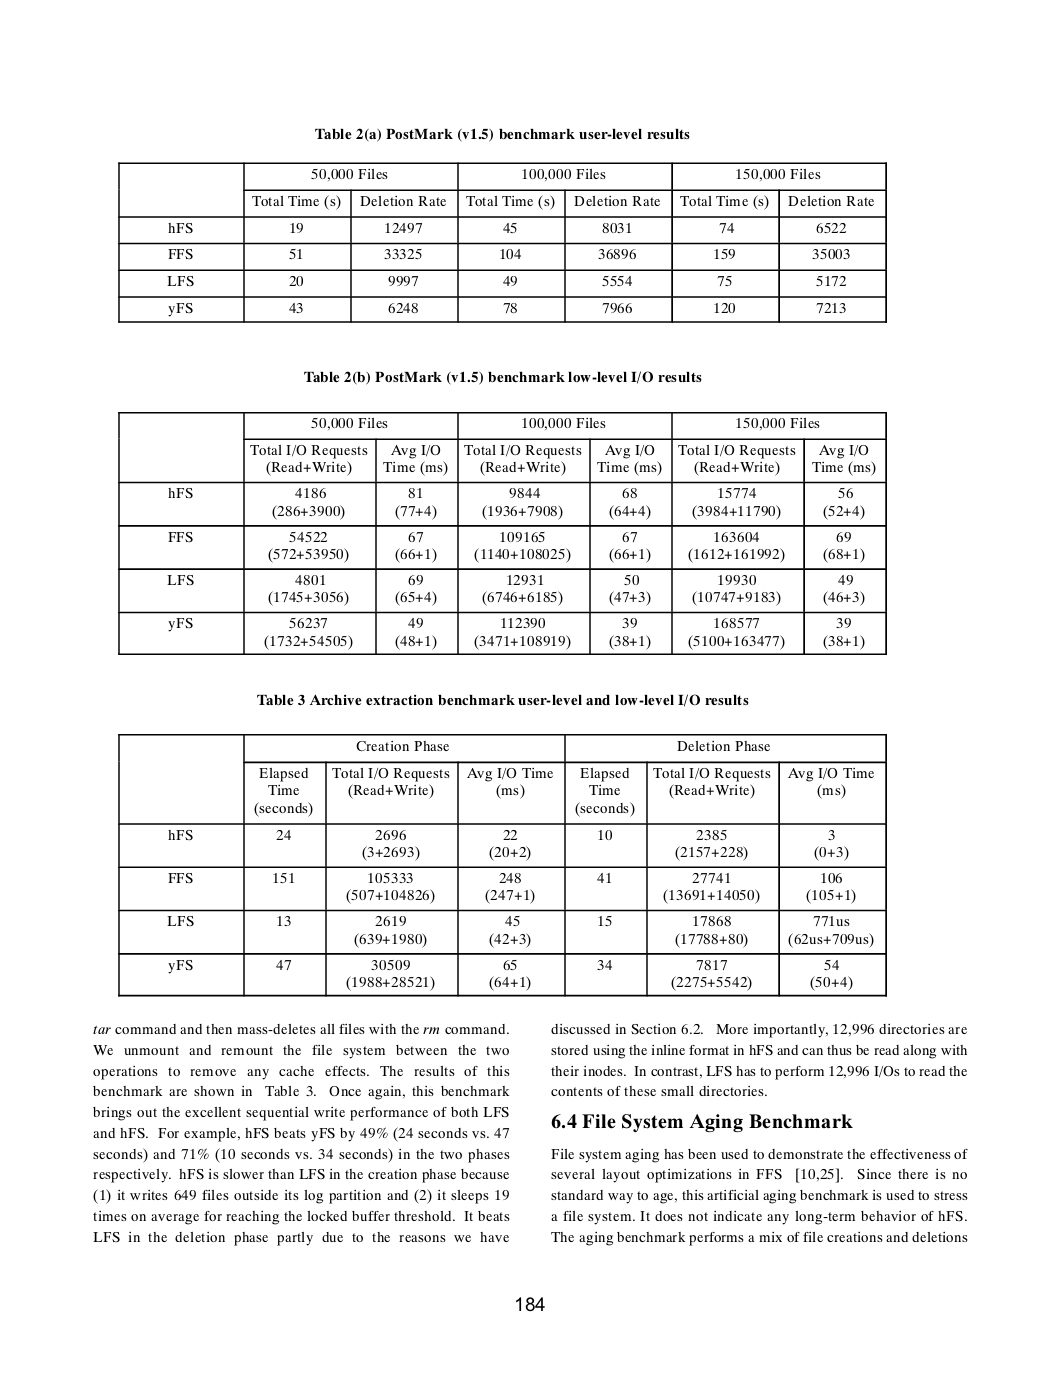Table: (118, 732, 886, 997), (118, 411, 886, 655), (118, 160, 886, 323)
